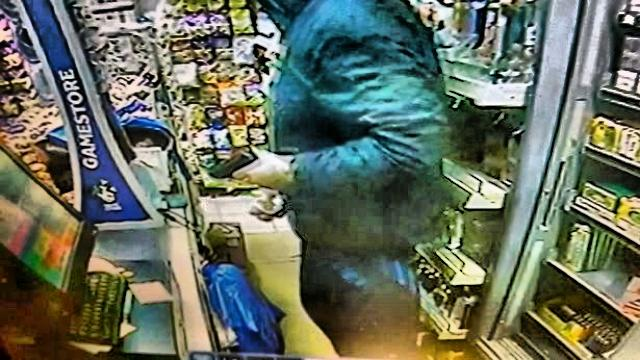pistol: (202, 148, 264, 178)
